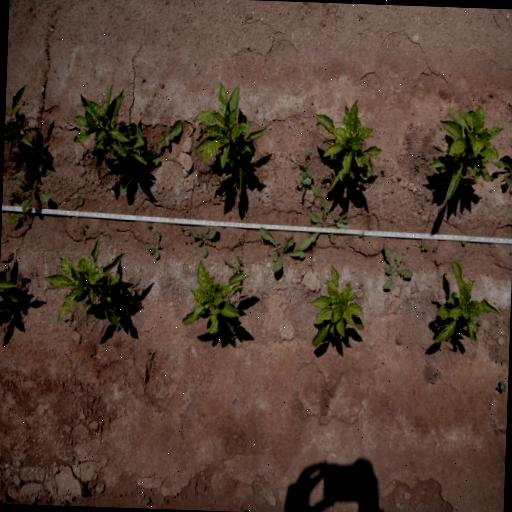plant: (192, 76, 272, 200), (42, 234, 136, 332), (423, 100, 499, 206), (71, 80, 145, 179), (311, 95, 383, 194), (428, 258, 502, 350), (179, 257, 249, 342), (305, 262, 368, 352)
weed: (117, 117, 185, 197), (2, 142, 53, 205), (298, 194, 350, 253), (3, 80, 38, 162), (255, 226, 305, 274), (378, 240, 414, 294), (292, 161, 322, 202), (186, 223, 218, 258), (495, 129, 512, 187), (1, 197, 29, 227), (146, 230, 166, 262), (220, 253, 248, 274), (67, 194, 85, 212), (332, 206, 350, 224), (494, 380, 507, 392), (419, 238, 429, 253), (78, 224, 84, 236), (413, 160, 420, 170), (146, 222, 152, 232), (304, 148, 310, 158), (432, 246, 440, 253)
